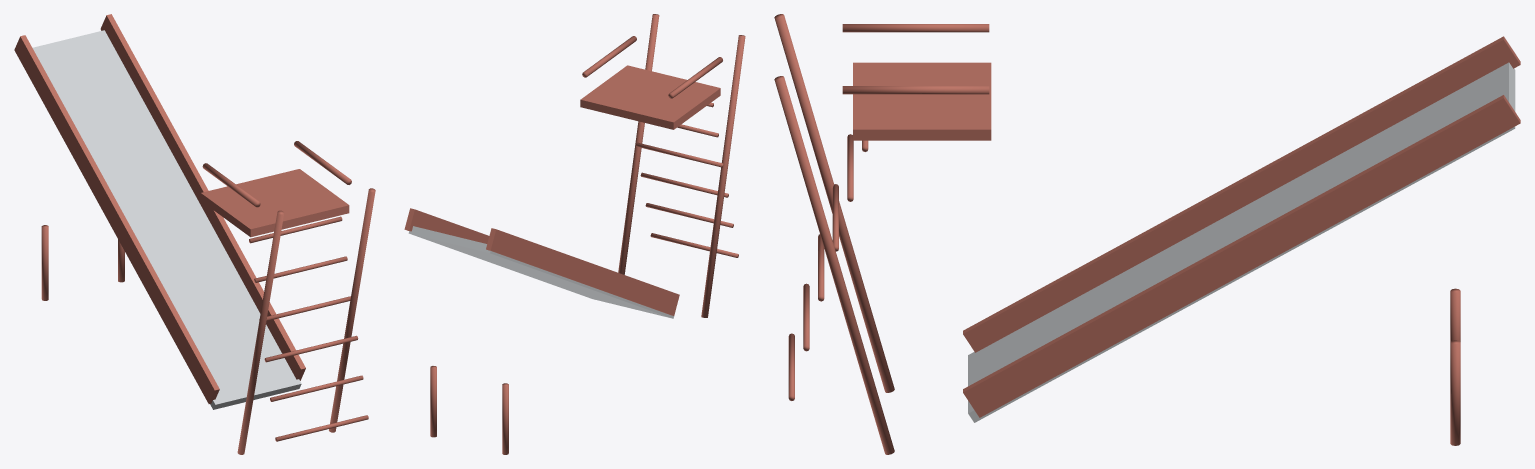
File: playground_slide.glb
3 views of the same model, side by side, from view 1: azimuth 30°, elevation 25°; view 2: azimuth 150°, elevation 25°; view 3: azimuth 270°, elevation 25° (orthographic). The views are drawn at different scales.
Visible parts, largest first — view 1: ChuteBed, ChuteRim_-0.34, TopPlatform, ChuteRim_0.34, LadderSide_-0.36, LadderSide_0.36, FrontPropL, Rung_1, Rung_0, Rung_2, TopRail_-0.36, TopRail_0.36 (+3 smaller); view 2: TopPlatform, ChuteRim_-0.34, ChuteBed, LadderSide_-0.36, LadderSide_0.36, ChuteRim_0.34, FrontPropL, FrontPropR, Rung_3, TopRail_0.36, TopRail_-0.36, Rung_0 (+2 smaller); view 3: ChuteRim_0.34, ChuteBed, ChuteRim_-0.34, TopPlatform, LadderSide_0.36, LadderSide_-0.36, TopRail_0.36, TopRail_-0.36, FrontPropR.
Boxes of the visible parts, left/top/right/bottom form: ChuteBed: left=32, top=30, right=301, bottom=409; ChuteRim_-0.34: left=14, top=35, right=219, bottom=403; TopPlatform: left=200, top=169, right=349, bottom=237; ChuteRim_0.34: left=100, top=14, right=305, bottom=380; LadderSide_-0.36: left=237, top=210, right=284, bottom=454; LadderSide_0.36: left=329, top=188, right=375, bottom=432; FrontPropL: left=41, top=225, right=48, bottom=300; Rung_1: left=270, top=375, right=363, bottom=401; Rung_0: left=275, top=415, right=368, bottom=441; Rung_2: left=264, top=335, right=358, bottom=362; TopRail_-0.36: left=202, top=163, right=260, bottom=207; TopRail_0.36: left=294, top=141, right=351, bottom=184; TopPlatform: left=580, top=65, right=720, bottom=129; ChuteRim_-0.34: left=486, top=228, right=679, bottom=315; ChuteBed: left=408, top=226, right=675, bottom=318; LadderSide_-0.36: left=701, top=35, right=745, bottom=317; LadderSide_0.36: left=618, top=14, right=659, bottom=274; ChuteRim_0.34: left=404, top=208, right=489, bottom=243; FrontPropL: left=502, top=383, right=508, bottom=454; FrontPropR: left=430, top=366, right=436, bottom=437; Rung_3: left=635, top=142, right=723, bottom=167; TopRail_0.36: left=582, top=36, right=636, bottom=77; TopRail_-0.36: left=668, top=57, right=722, bottom=98; Rung_0: left=650, top=233, right=738, bottom=257; ChuteRim_0.34: left=963, top=95, right=1520, bottom=417; ChuteBed: left=968, top=62, right=1515, bottom=422; ChuteRim_-0.34: left=963, top=36, right=1520, bottom=352; TopPlatform: left=853, top=62, right=991, bottom=140; LadderSide_0.36: left=774, top=76, right=894, bottom=454; LadderSide_-0.36: left=774, top=14, right=894, bottom=392; TopRail_0.36: left=842, top=86, right=989, bottom=94; TopRail_-0.36: left=842, top=24, right=989, bottom=32; FrontPropR: left=1450, top=340, right=1460, bottom=445.
Bounding box in the file's own units: 0.78 × 2.04 × 3.67.
